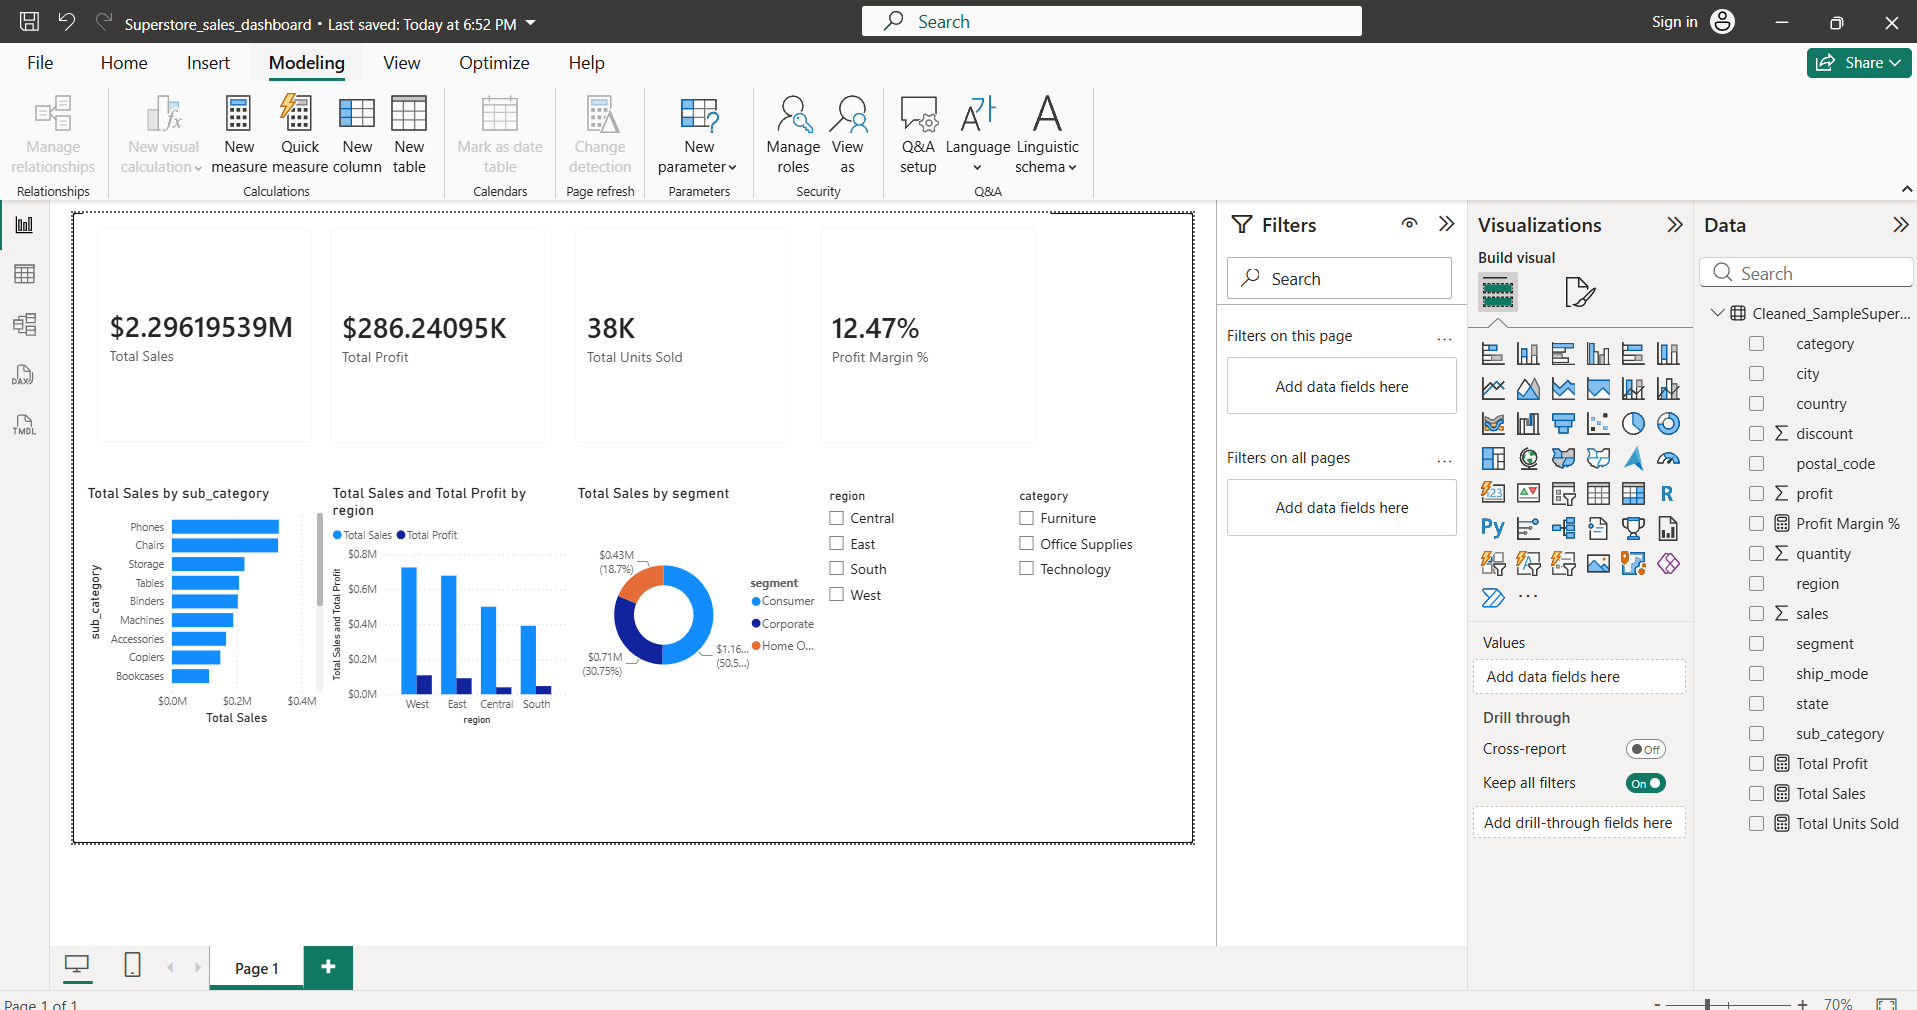

What the dashboard file says about the page in this screenshot:
{"tool":"powerbi","page":{"name":"Page 1","canvas":[1280,720],"ordinal":0},"visuals":[{"type":"cardVisual","fields":{"Data":["Cleaned_SampleSuperstore.Total Sales"]},"box":[11,0,279.9,279.9],"z":0},{"type":"cardVisual","fields":{"Data":["Cleaned_SampleSuperstore.Total Profit"]},"box":[277.1,0,280,280],"z":1},{"type":"cardVisual","fields":{"Data":["Cleaned_SampleSuperstore.Total Units Sold"]},"box":[557.1,0,280,280],"z":2},{"type":"cardVisual","fields":{"Data":["Cleaned_SampleSuperstore.Profit Margin %"]},"box":[837.1,0,280,280],"z":3},{"type":"clusteredBarChart","fields":{"Category":["Cleaned_SampleSuperstore.sub_category"],"Y":["Cleaned_SampleSuperstore.Total Sales"]},"box":[11,310.1,279.9,279.9],"z":4},{"type":"clusteredColumnChart","fields":{"Category":["Cleaned_SampleSuperstore.region"],"Y":["Cleaned_SampleSuperstore.Total Sales","Cleaned_SampleSuperstore.Total Profit"]},"box":[291.1,310,280,280],"z":5},{"type":"donutChart","fields":{"Category":["Cleaned_SampleSuperstore.segment"],"Y":["Cleaned_SampleSuperstore.Total Sales"]},"box":[571.4,310,292.9,280],"z":6},{"type":"slicer","fields":{"Values":["Cleaned_SampleSuperstore.region"]},"box":[851.4,310,252.9,280],"z":7},{"type":"slicer","fields":{"Values":["Cleaned_SampleSuperstore.category"]},"box":[1068.6,310,185.7,280],"z":8}]}

Visuals, with their boxes on the page's 1280x720 design canvas (x1, y1, x2, y2). These are canvas units, not pixel positions in the 1917x1010 screenshot, which may show the page scaled, cropped or inside an application window:
cardVisual - Cleaned_SampleSuperstore.Total Sales: x1=11 y1=0 x2=291 y2=280
cardVisual - Cleaned_SampleSuperstore.Total Profit: x1=277 y1=0 x2=557 y2=280
cardVisual - Cleaned_SampleSuperstore.Total Units Sold: x1=557 y1=0 x2=837 y2=280
cardVisual - Cleaned_SampleSuperstore.Profit Margin %: x1=837 y1=0 x2=1117 y2=280
clusteredBarChart - Cleaned_SampleSuperstore.sub_category x Cleaned_SampleSuperstore.Total Sales: x1=11 y1=310 x2=291 y2=590
clusteredColumnChart - Cleaned_SampleSuperstore.region x Cleaned_SampleSuperstore.Total Sales: x1=291 y1=310 x2=571 y2=590
donutChart - Cleaned_SampleSuperstore.segment x Cleaned_SampleSuperstore.Total Sales: x1=571 y1=310 x2=864 y2=590
slicer - Cleaned_SampleSuperstore.region: x1=851 y1=310 x2=1104 y2=590
slicer - Cleaned_SampleSuperstore.category: x1=1069 y1=310 x2=1254 y2=590
